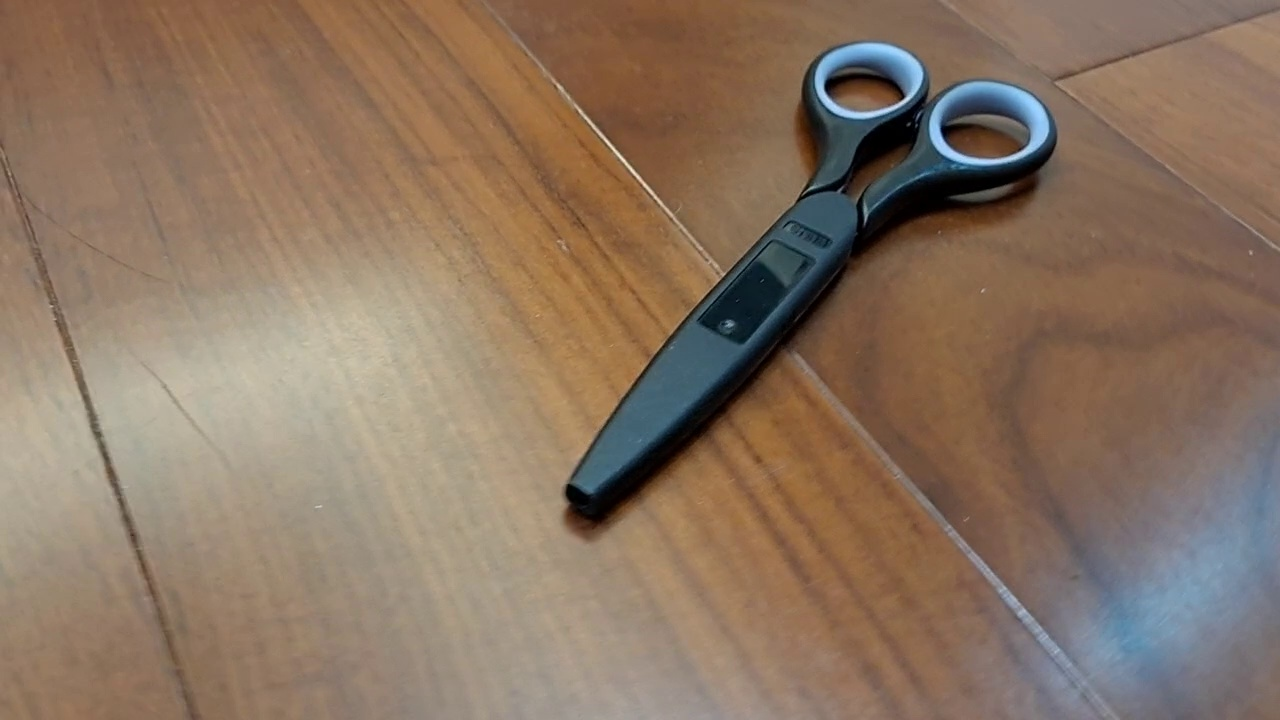scissors: (562, 39, 1058, 526)
